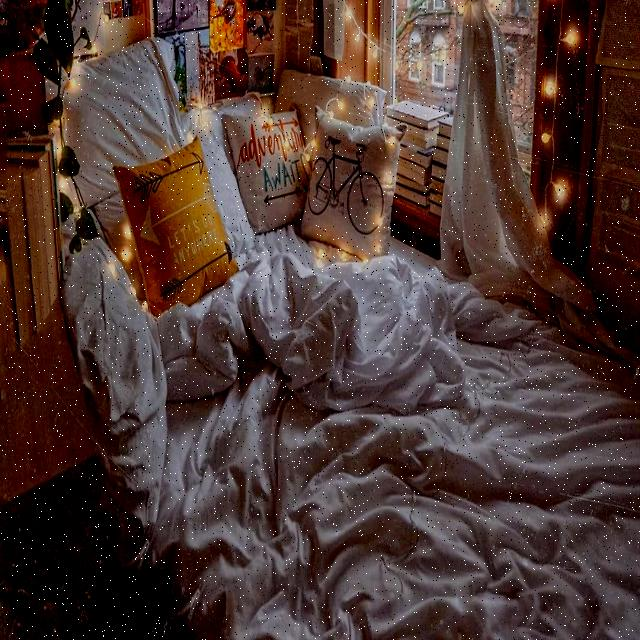bed: (59, 92, 640, 640)
